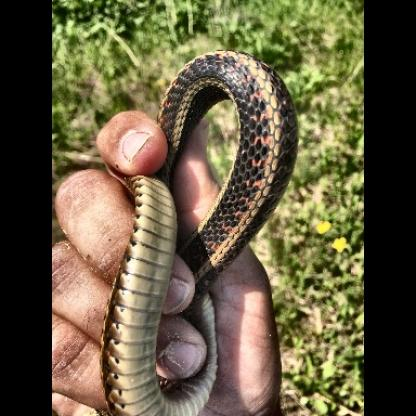Snake: (97, 49, 301, 416)
